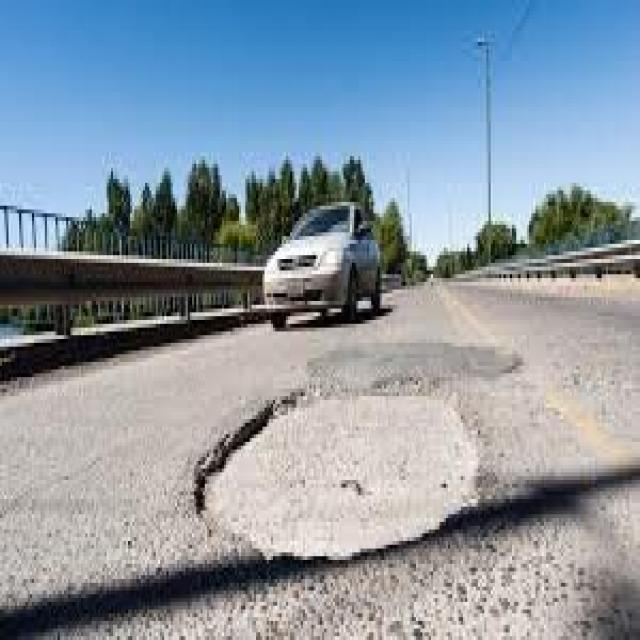pothole: (188, 358, 525, 610)
